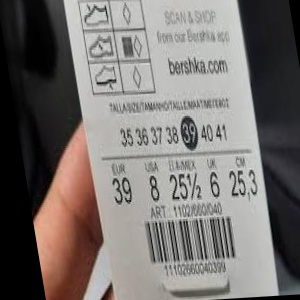bershka: (120, 10, 287, 90)
